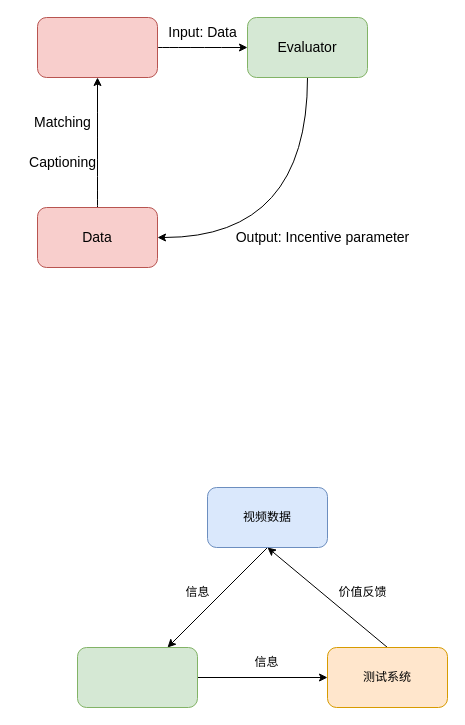
This 465x725 diagram has some shape labels left out. Each missing label, with the centre of its shape:
"Model" goes at pixel 97 47.
"场景生成" goes at pixel 137 677.
